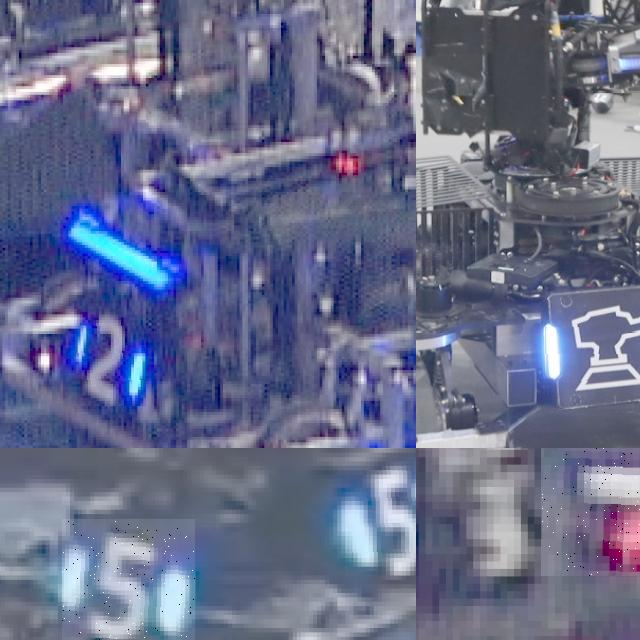B2: (71, 312, 146, 406)
B5: (61, 518, 195, 640), (345, 457, 416, 575)
Bs: (543, 286, 640, 408)
R4: (541, 448, 640, 576)
